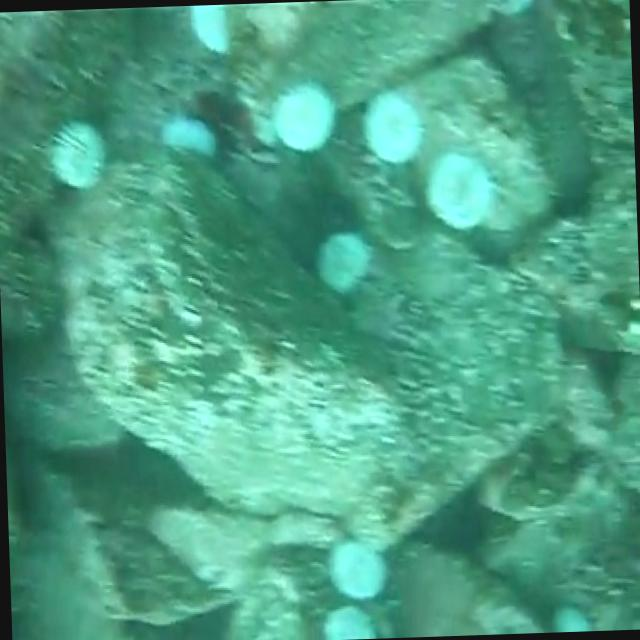Deniz Kestanesi: (267, 76, 345, 158), (428, 154, 497, 235), (42, 111, 105, 197), (308, 224, 375, 302), (363, 90, 425, 164), (323, 536, 390, 602), (156, 109, 216, 180), (170, 3, 234, 67), (318, 606, 382, 640)
